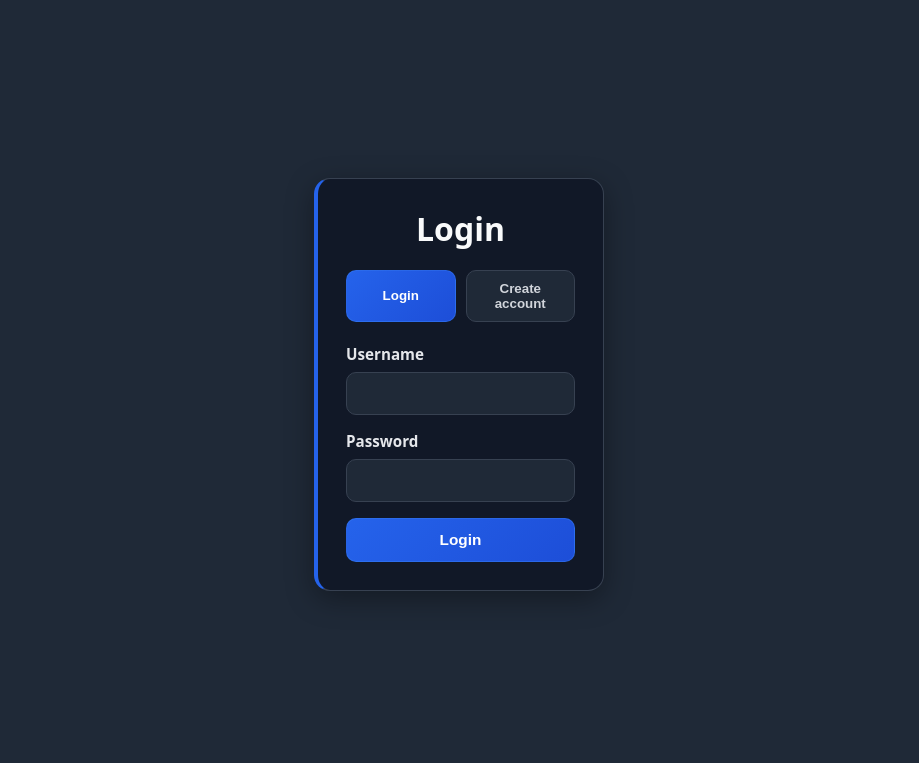
it: Bug List & Details › shows empty state when no bugs
Step 1. Type "testuser" into the 1st field with class "login-input" → (461, 394), box 346,372 -> 575,415
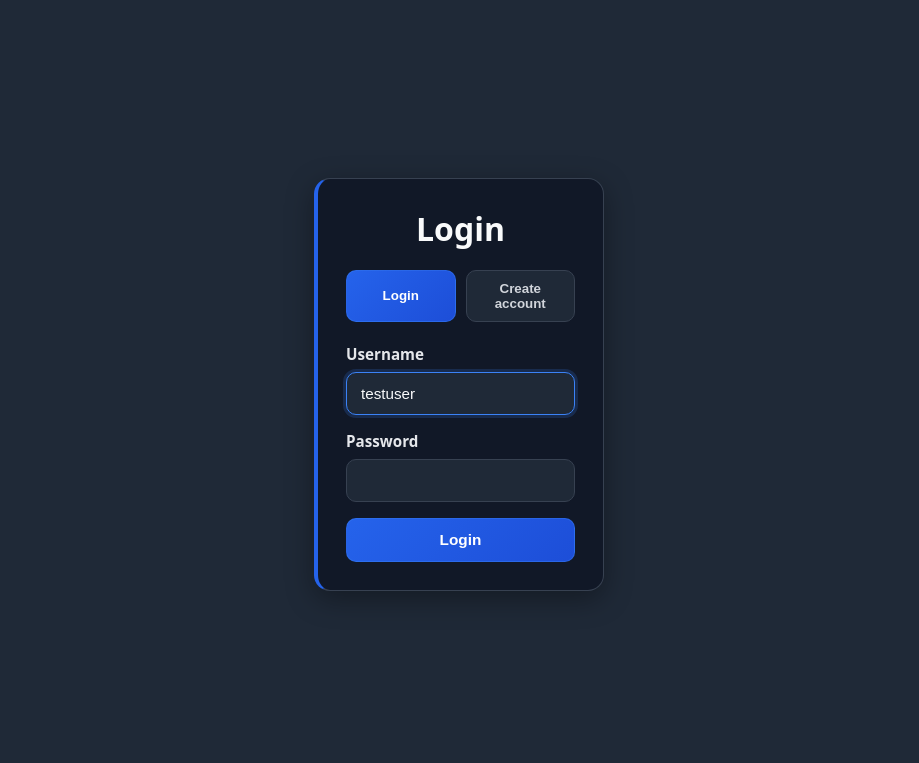
Step 2. Type "password123" into the 2nd password field with class "login-input" → (461, 481), box 346,459 -> 575,502
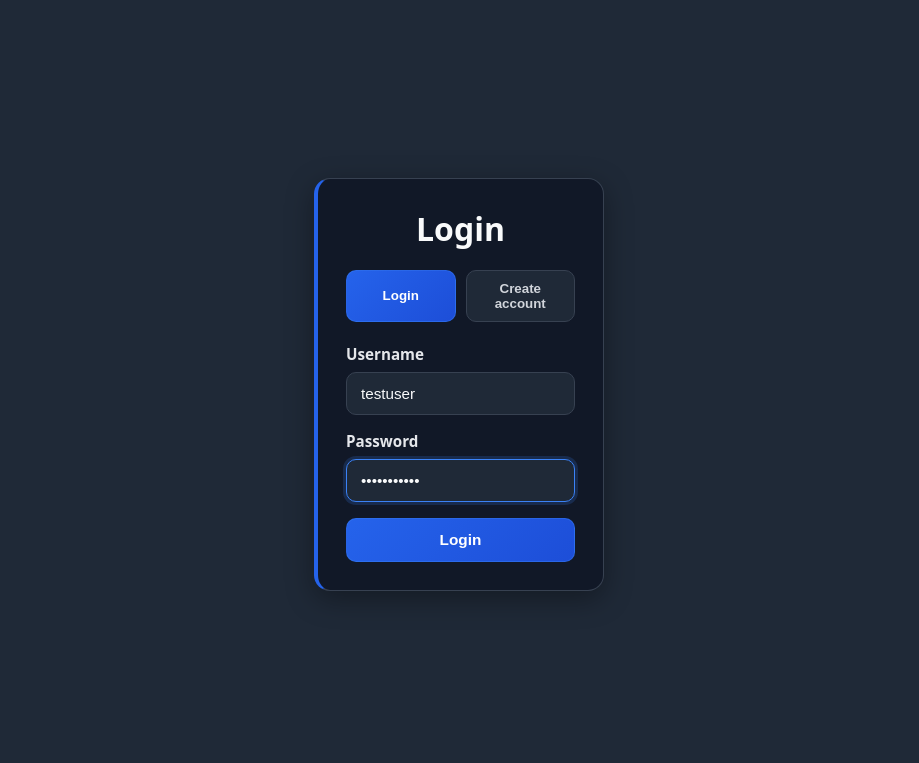
Step 3. Click the button with class "login-submit" → (461, 540), box 346,518 -> 575,562
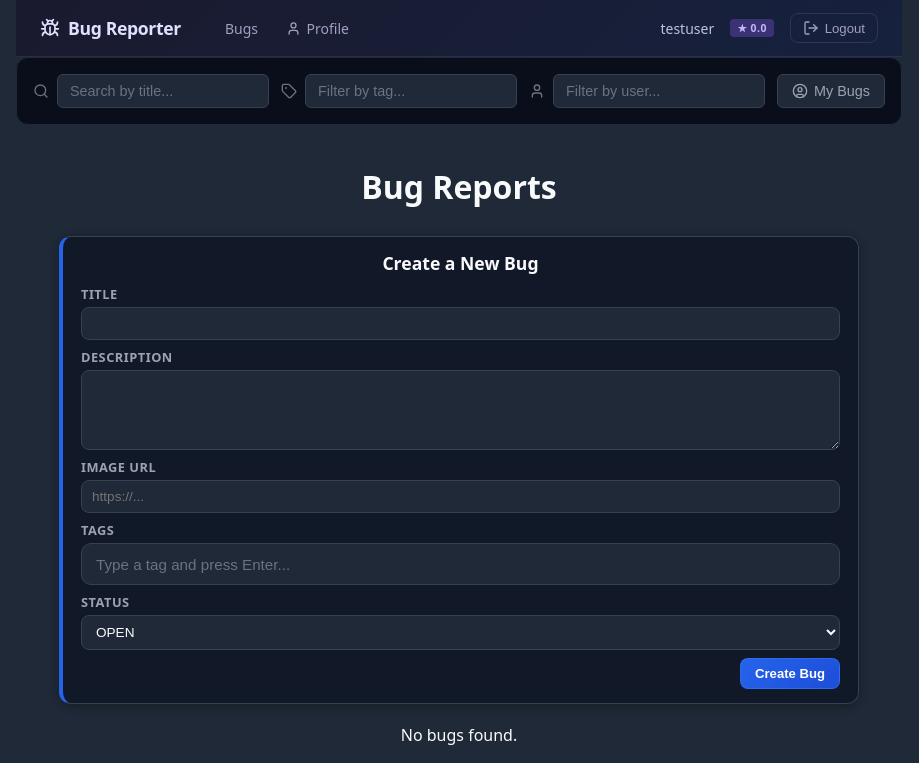
Now the text "No bugs found." is shown, box 401,724 -> 517,746
